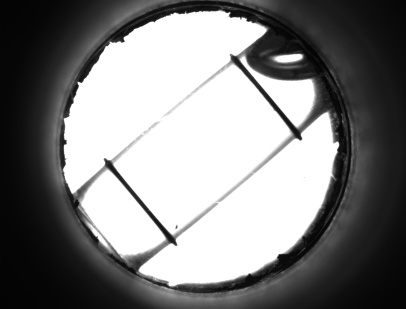line: (115, 182, 168, 222), (248, 87, 298, 119)
